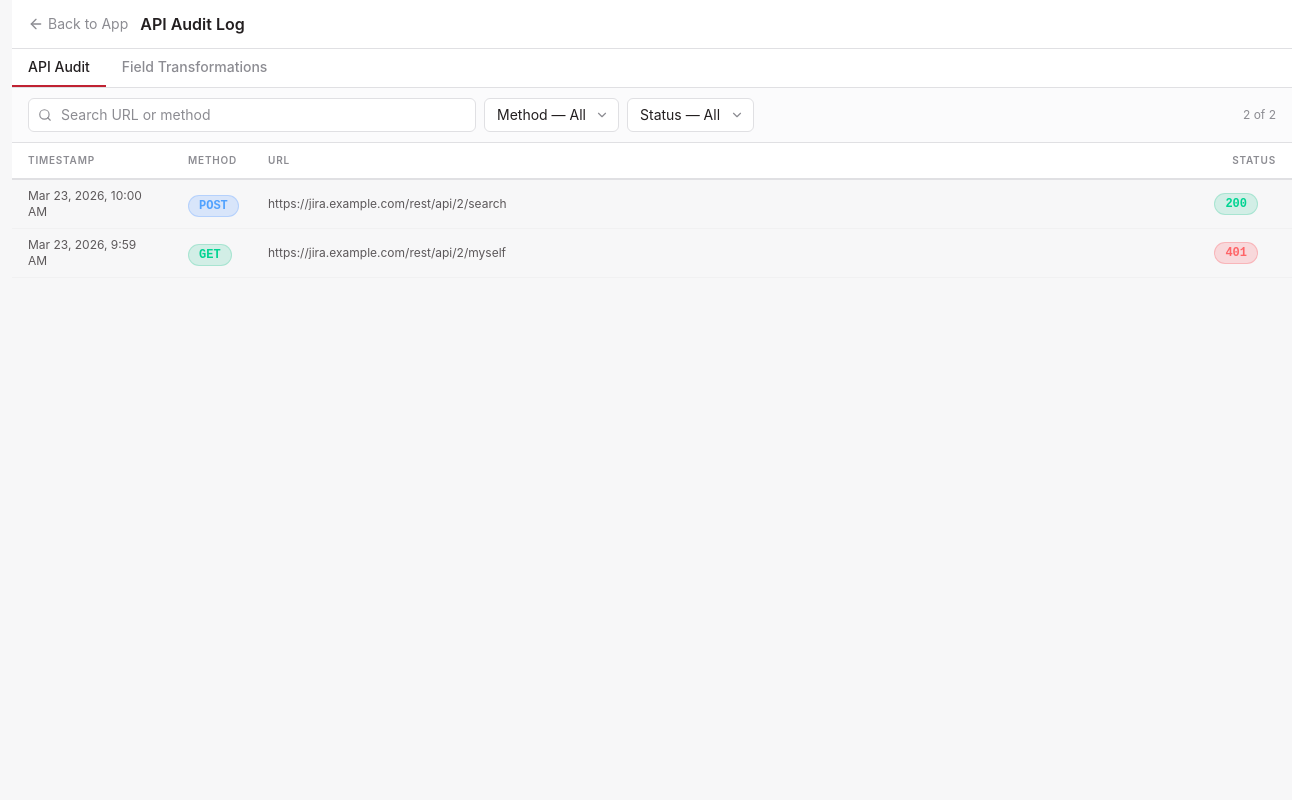
Test: AuditLogPage › Test 4: only one row expanded at a time (expanding row B collapses row A)
Expected: the text "https://jira.example.com/rest/api/2/search" is shown, [252,179,1196,228]
Expected: the button that starts with "Mar 23, 2026, 9:59 AM" is shown, [12,228,1291,278]
What coordinates should you click on to do the following:
click the button that starts with "Mar 23, 2026, 10:00 AM"
I would click on:
 (85, 196)
Its box is [12,179,1291,228].
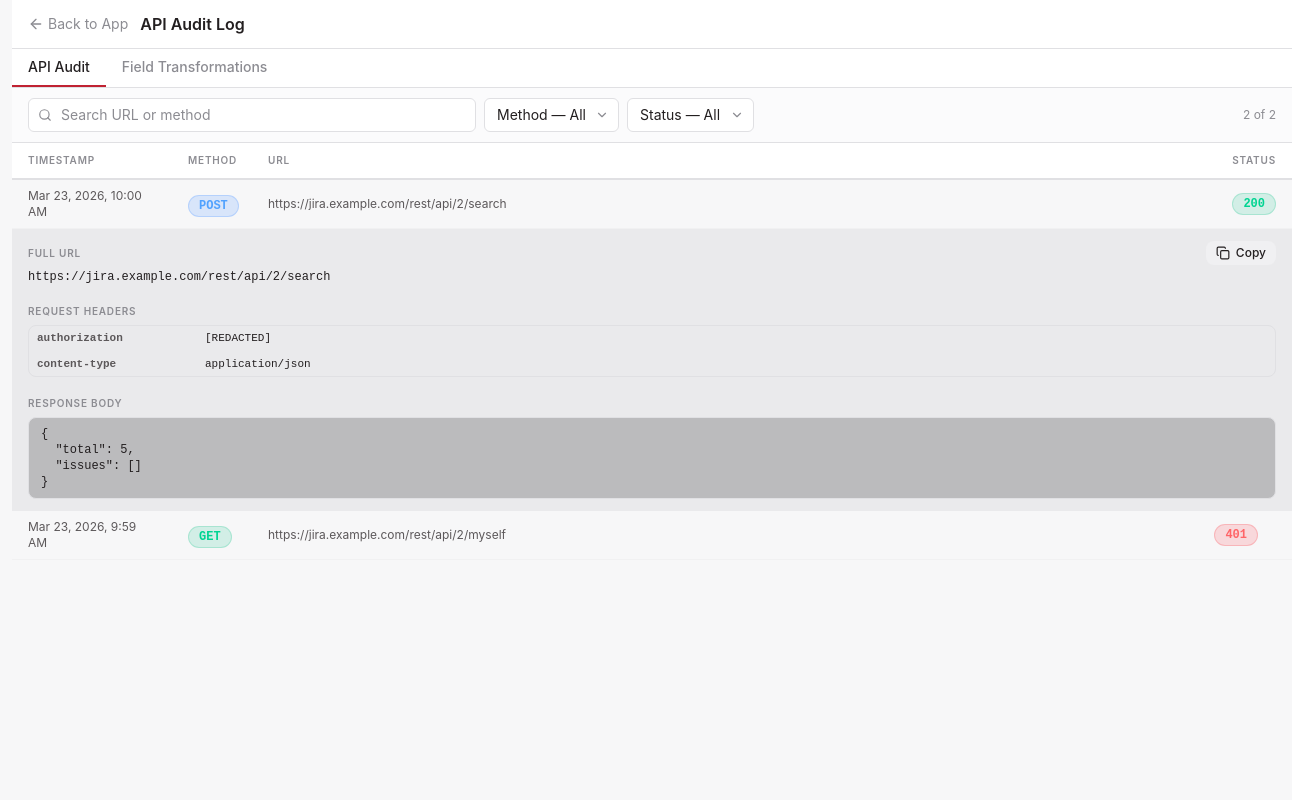
Now the text "Request Headers" is shown once, box [28,305,136,317]
What coordinates should you click on to do the following:
click the button that starts with "Mar 23, 2026, 9:59 AM"
I would click on:
 (82, 526)
Its box is [12,511,1291,560].
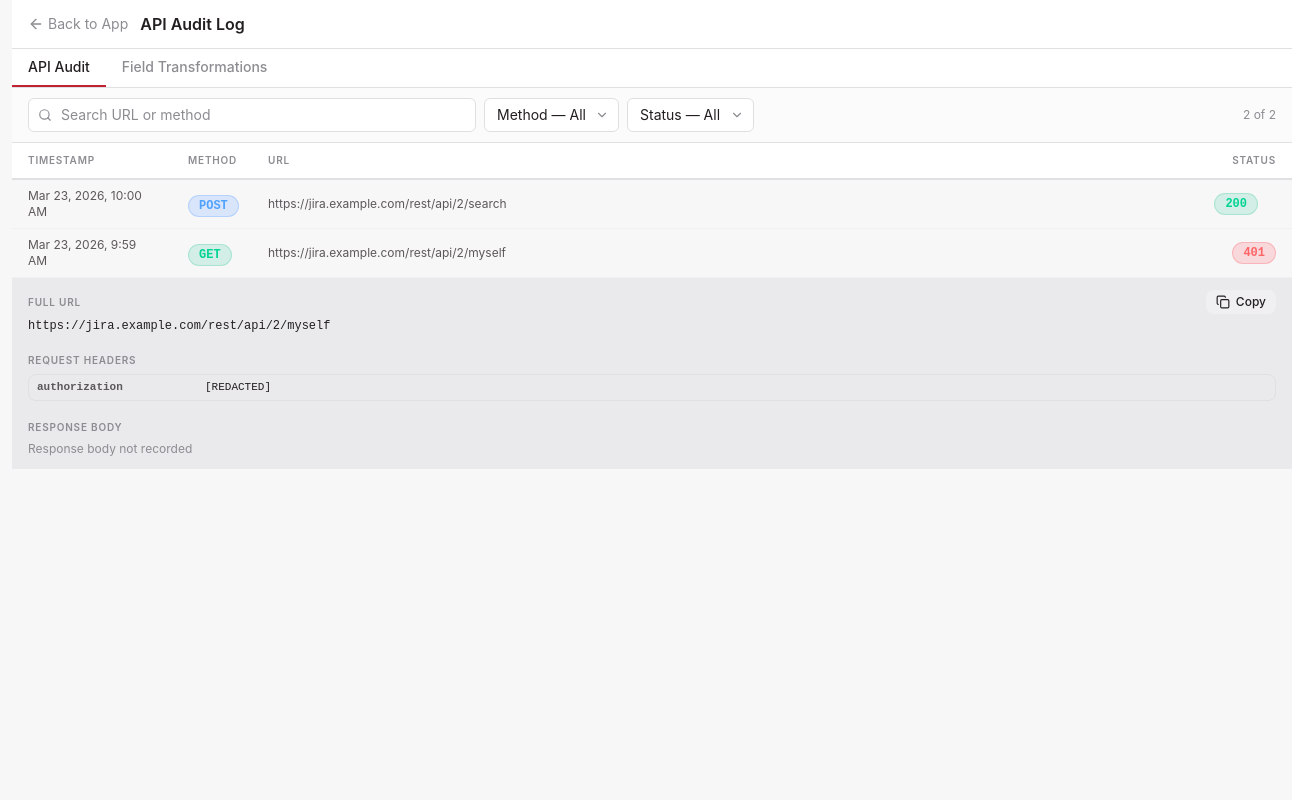
Now the text "Request Headers" is shown once, box [28,354,136,366]
Now the button that starts with "Mar 23, 2026, 9:59 AM" is expanded, box [12,228,1291,278]
